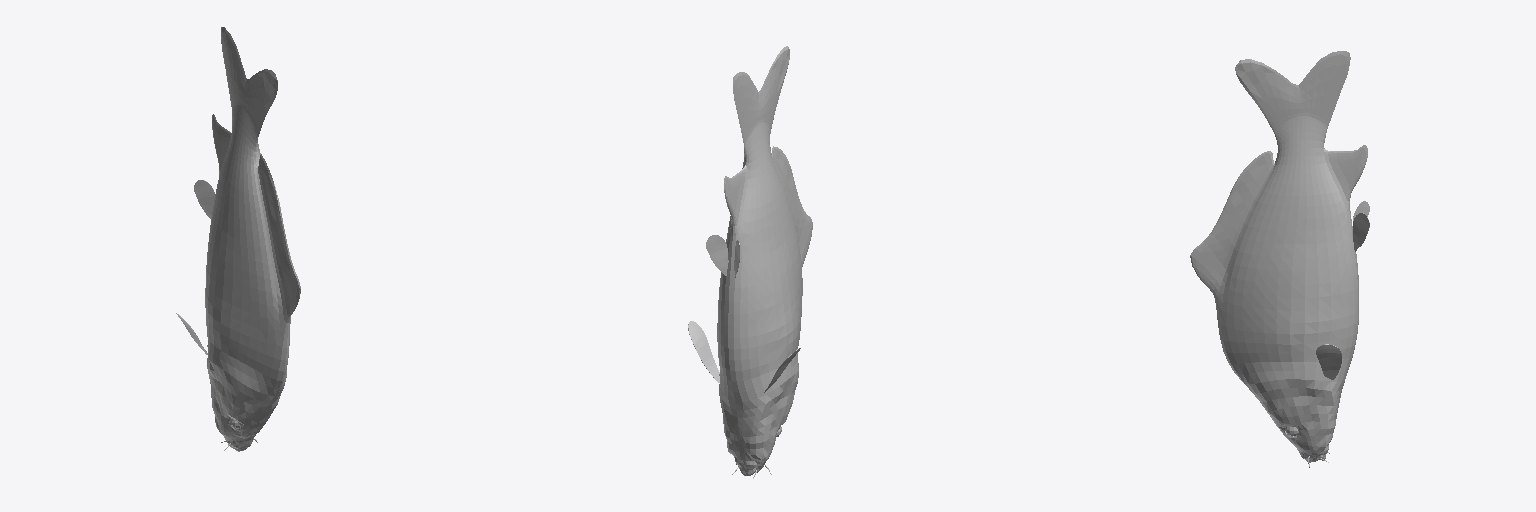
The model's file is Fish.obj.
3 renders of one model, left to right at view 1: azimuth 30°, elevation 25°; view 2: azimuth 150°, elevation 25°; view 3: azimuth 270°, elevation 25°, orthographic.
Parts seen in each view (by area): view 1: body; view 2: body; view 3: body.
Part boxes in pixels (bbox=[...]): body: bbox=[176, 27, 300, 451]; body: bbox=[688, 46, 812, 478]; body: bbox=[1190, 51, 1369, 467].
Size of the model in its own units: 0.5768 by 2.07 by 0.8199.